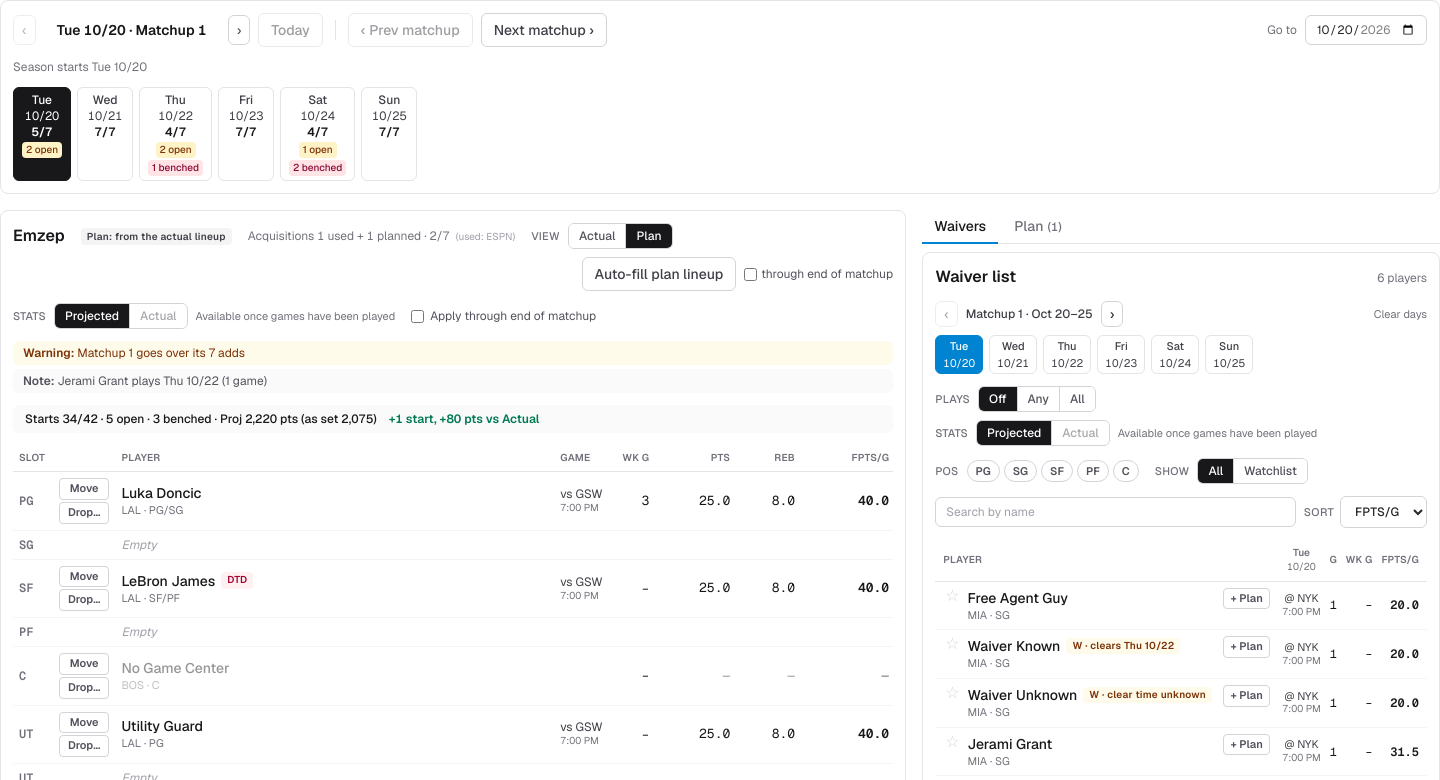
Test: Auto-fill in the Plan view › fills the plan's lineup, never the Actual one, and re-reads the Plan day
The width and height of the screenshot is (1440, 780).
Expected: the button "Luka Doncic" is shown, [121, 483, 202, 503]
Expected: the button "Free Agent Guy" is shown, [968, 588, 1068, 608]
Click the button "Auto-fill plan lineup" at {"x": 659, "y": 274}, box [582, 257, 736, 291]
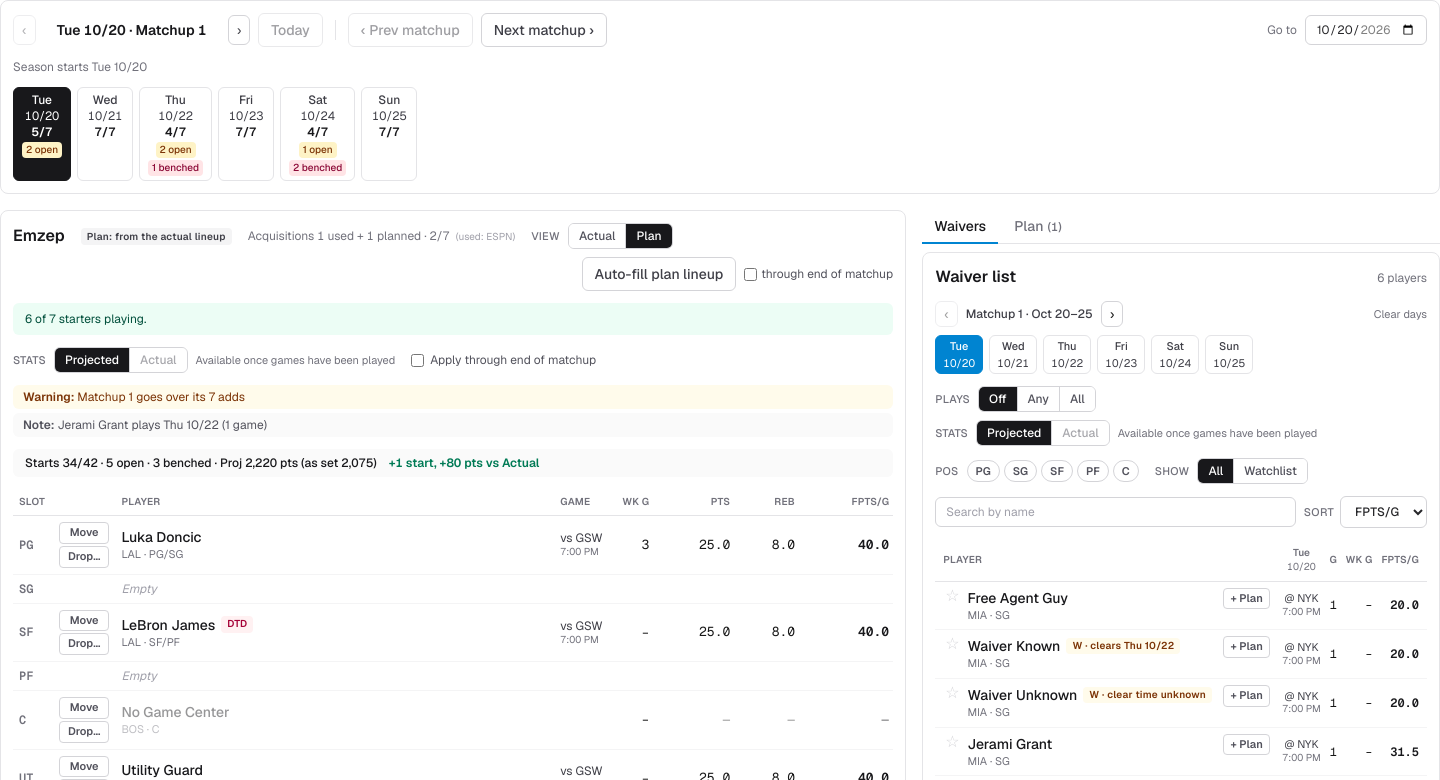
Result: the text "6 of 7 starters playing." is shown at [13, 303, 893, 335]
